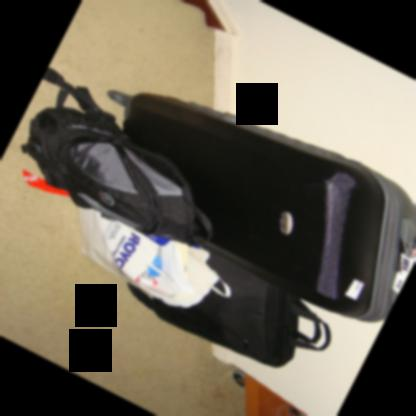backpack: (17, 66, 207, 250)
handbag: (125, 252, 330, 368)
suitcase: (109, 88, 416, 322)
